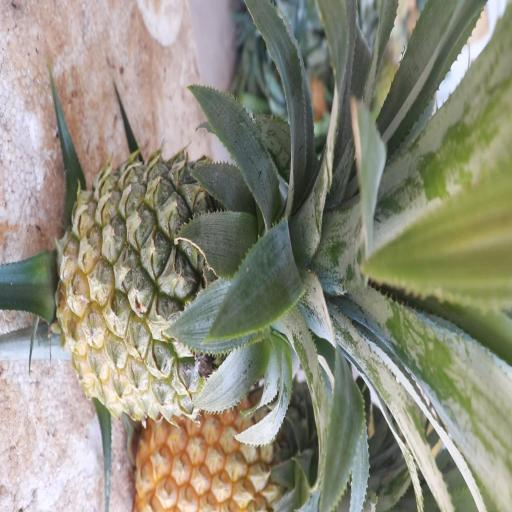------------------------------: (64, 160, 322, 418)
Pineapple - v8 v1: (135, 408, 321, 512)
